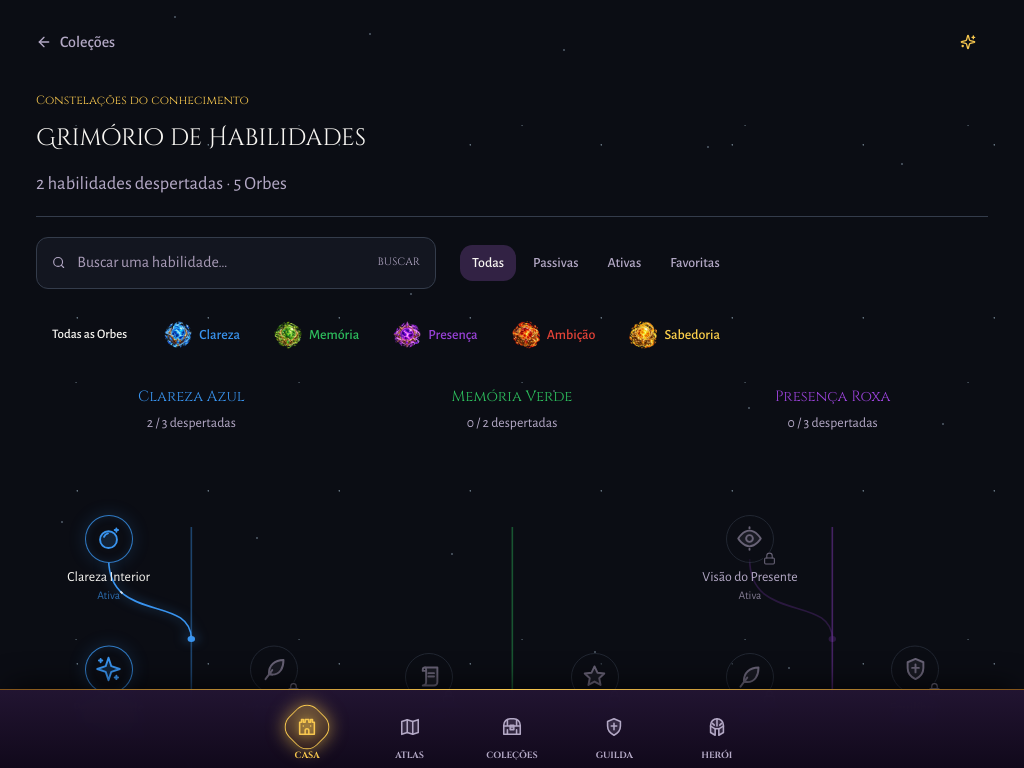
Acervo e ficha do herói › separa habilidades ativas e passivas
Click the button "Ativas" at (624, 263), box [596, 245, 653, 281]
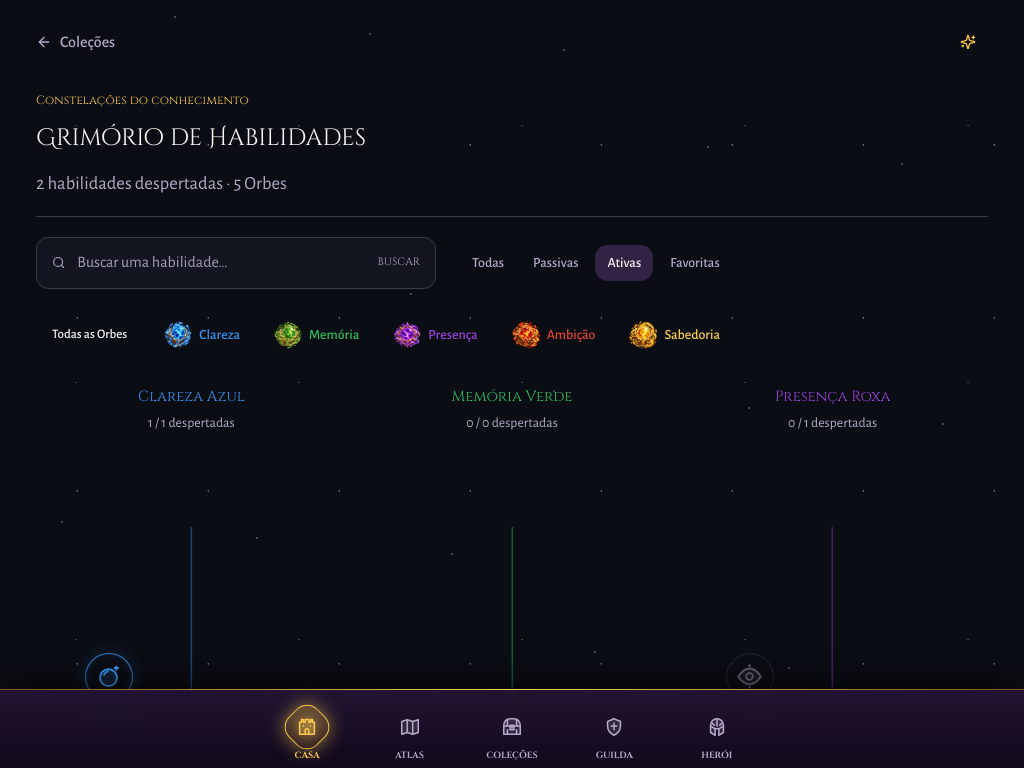
Expected: the button named "Inspecionar Clareza Interior" is shown, [85, 653, 133, 701]
Click the button "Passivas" at (556, 263), box [521, 245, 590, 281]
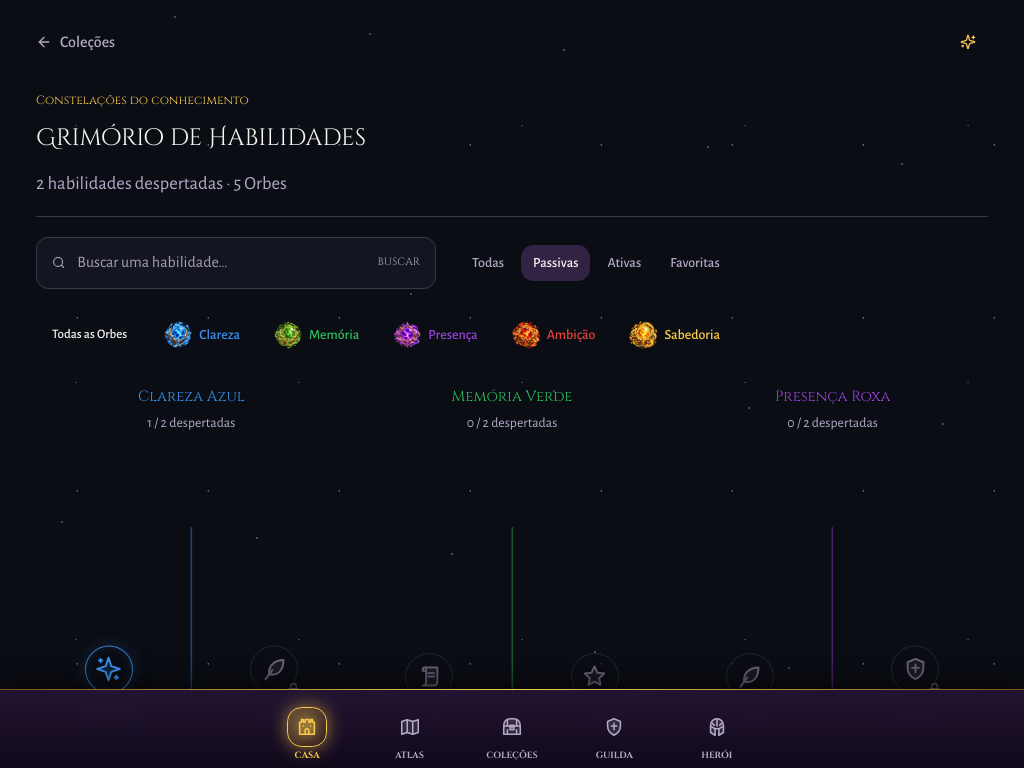
Expected: the button named "Inspecionar Percepção de Habilidades" is shown, [85, 645, 133, 693]
